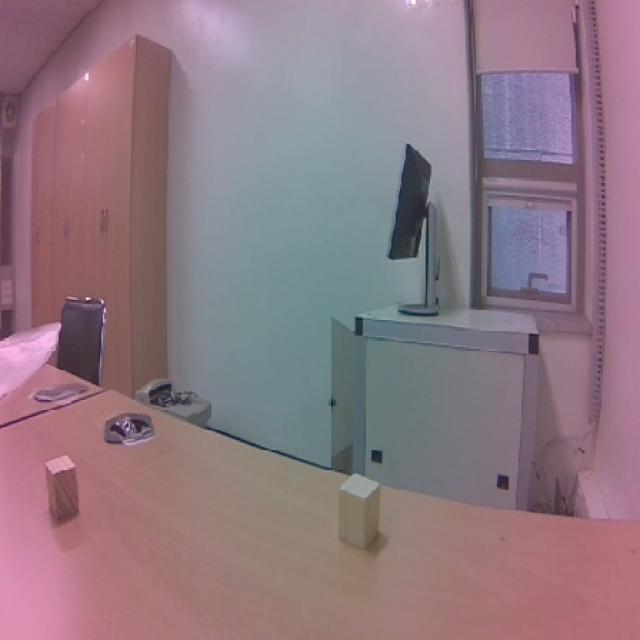obstacle: (324, 462, 393, 555), (38, 442, 92, 527)
